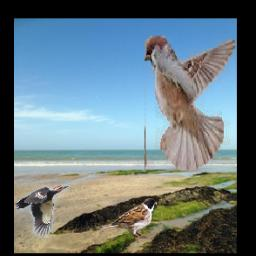Sparrow: (145, 37, 237, 172), (98, 196, 158, 239)
Woodpecker: (16, 184, 70, 238)
